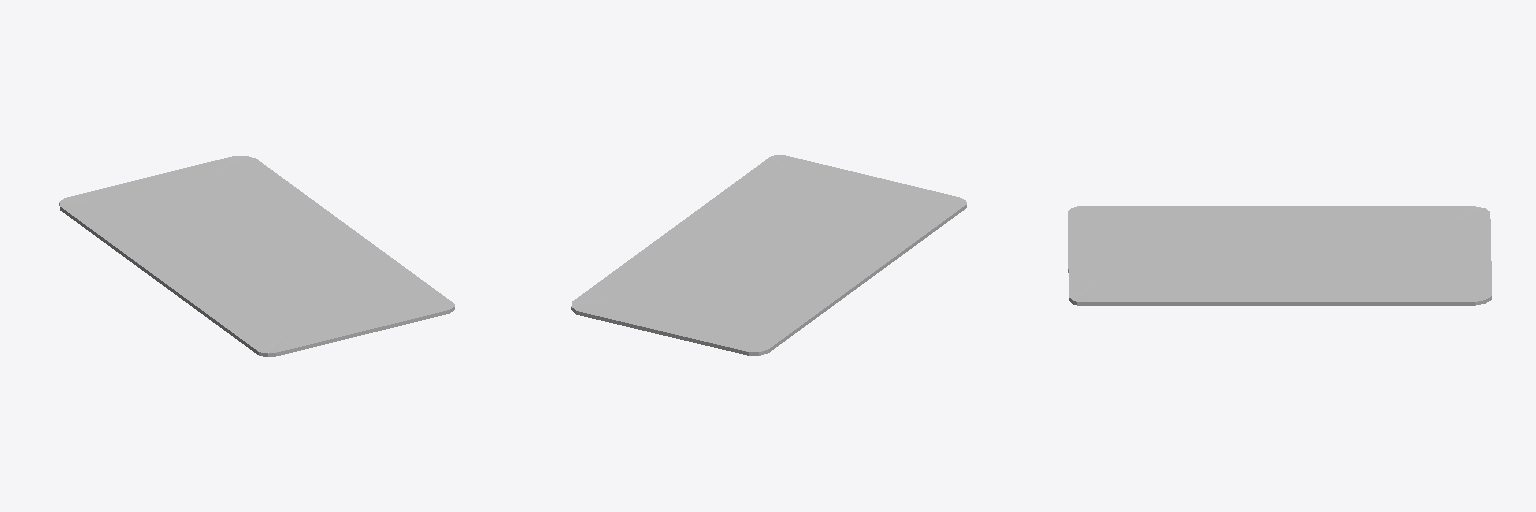
File: GrandHall_Ceiling.obj
3 renders of one model, left to right at view 1: azimuth 30°, elevation 25°; view 2: azimuth 150°, elevation 25°; view 3: azimuth 270°, elevation 25°, orthographic.
Parts seen in each view (by area): view 1: Ceiling pCube14; view 2: Ceiling pCube14; view 3: Ceiling pCube14.
Boxes of the visible parts, x1,y1,x2,y2 form: Ceiling pCube14: [59, 156, 454, 356]; Ceiling pCube14: [571, 155, 966, 355]; Ceiling pCube14: [1068, 206, 1491, 305].
Size of the model in its own units: 944 by 17.33 by 1770.